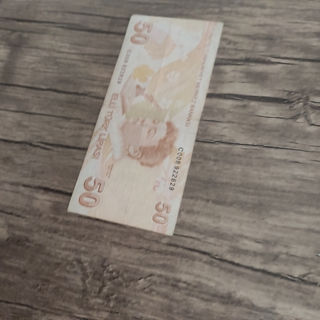50TLBack: (67, 13, 224, 235)
